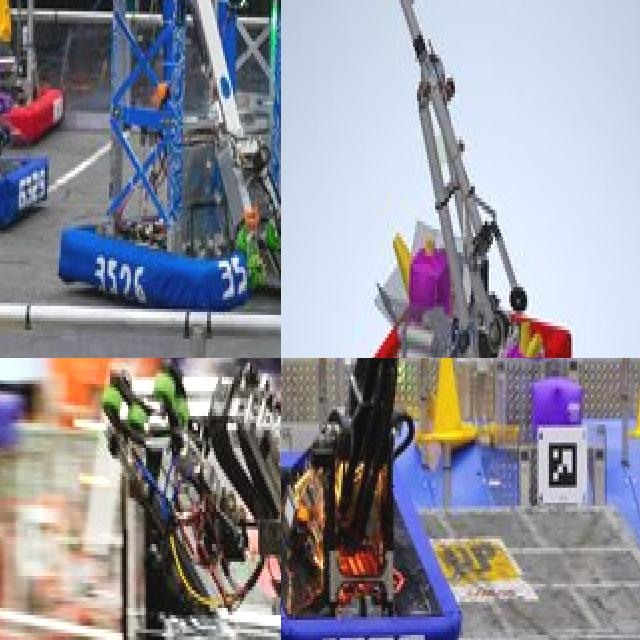FRC-Robots: (347, 0, 586, 358), (39, 358, 281, 640), (281, 358, 513, 640), (84, 0, 281, 319), (0, 0, 73, 154)
